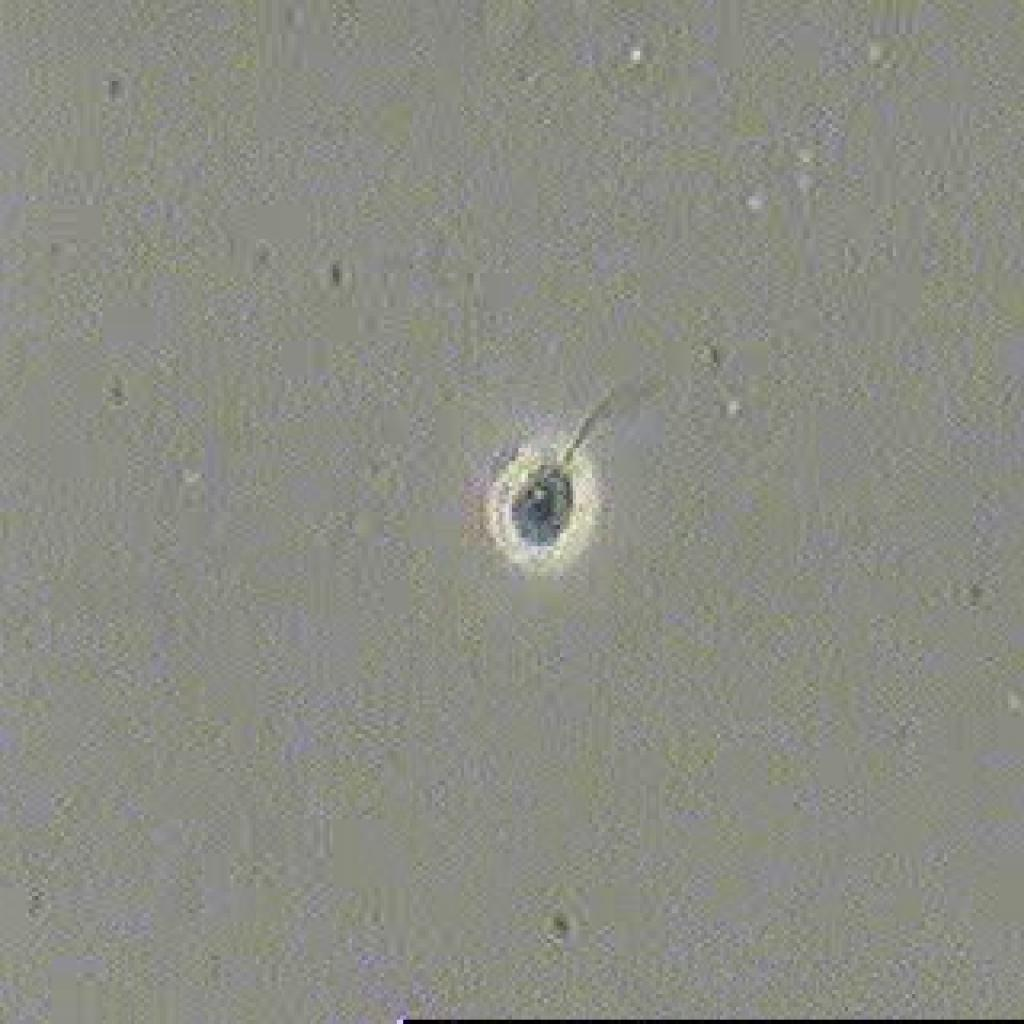Flagellates: (456, 341, 674, 602)
